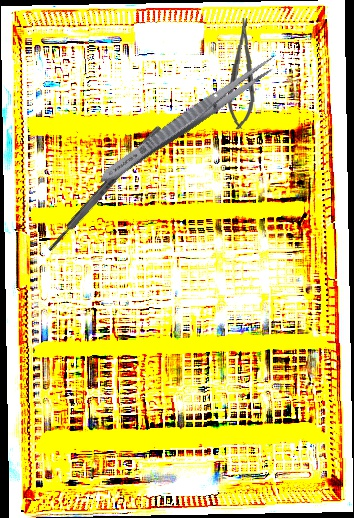Dressing Forceps: (94, 49, 283, 191)
Needle Holder: (226, 17, 259, 130)
Scalpel Handle: (45, 123, 164, 254)
